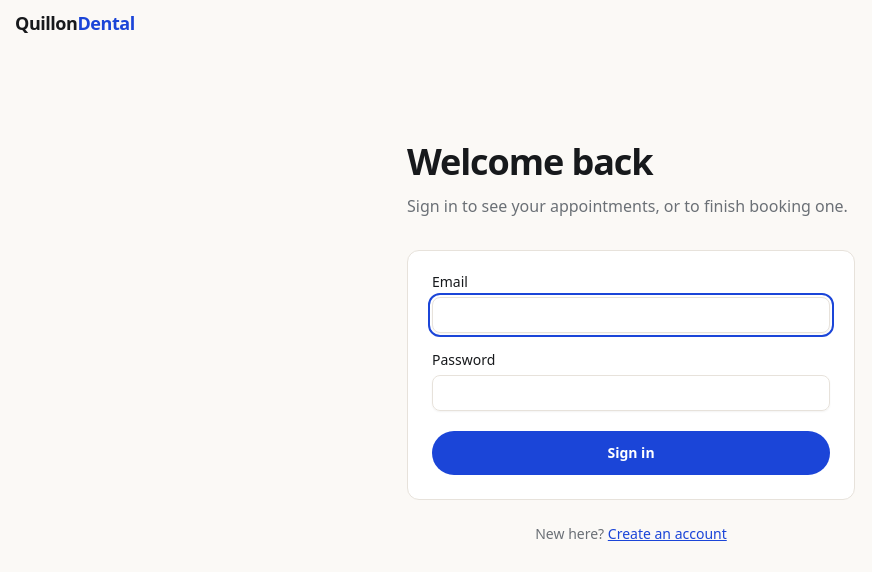
SignIn › never reaches the network for a request the form can already refuse
Type "not-an-email" into the field labelled "Email" at x=631, y=315, box [432,297,830,333]
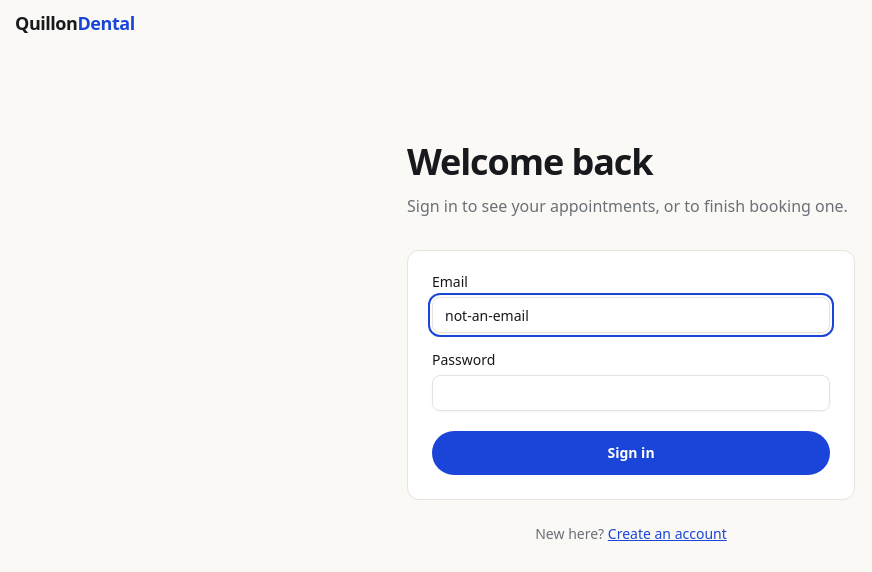
Type "correct-horse-battery" into the password field labelled "Password" at x=631, y=393, box [432,375,830,411]
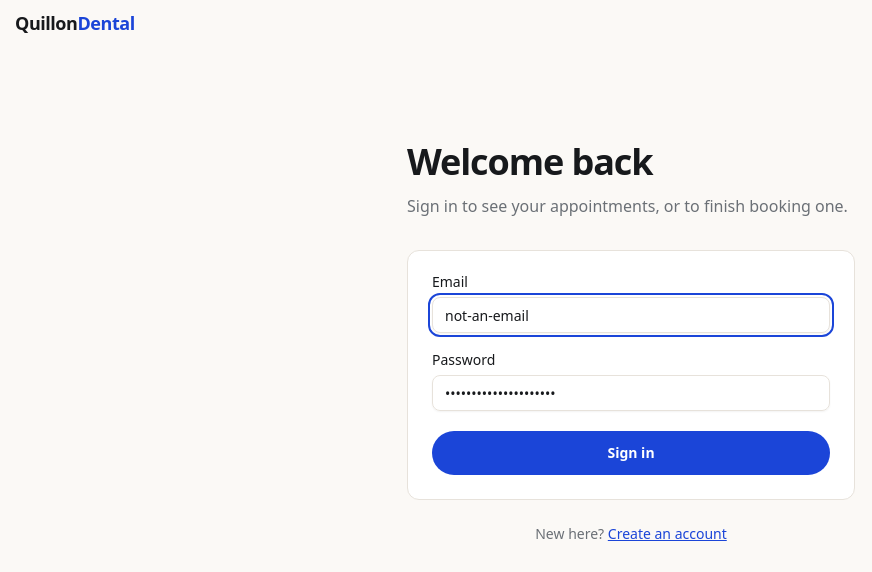
Click the button "Sign in" at x=631, y=453, box [432,431,830,475]
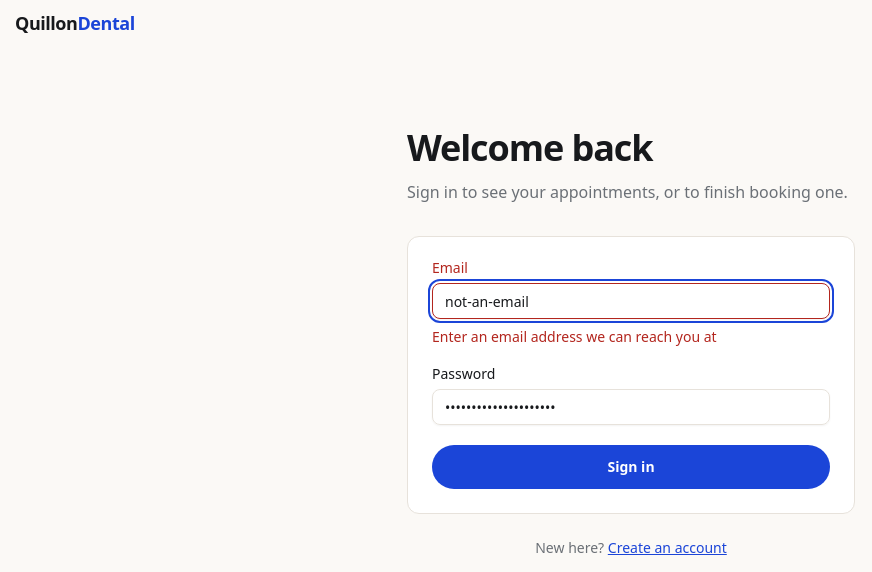
Check: the text "Enter an email address we can reach you at" is shown, box [432,327,717,346]
